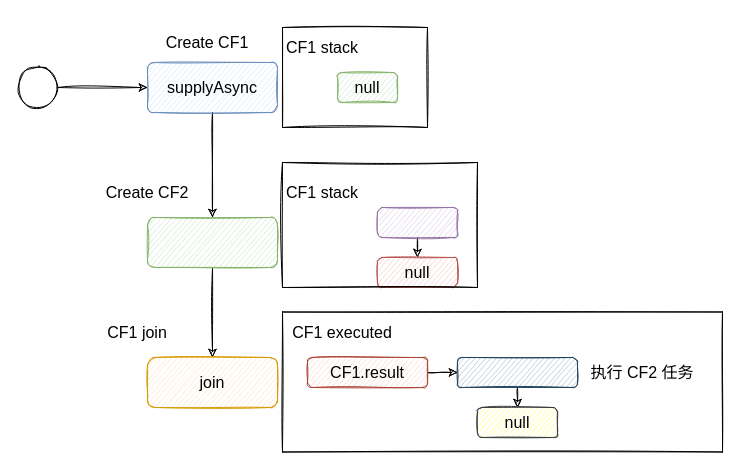
Some shapes in this 740 by 469 pixel diagram are drawn without their labels. Each missing label, with the centre of its shape:
"thenApply" belongs at point 212,242.
"UniApply" belongs at point 417,222.
"UniApply.tryFire" belongs at point 517,372.
